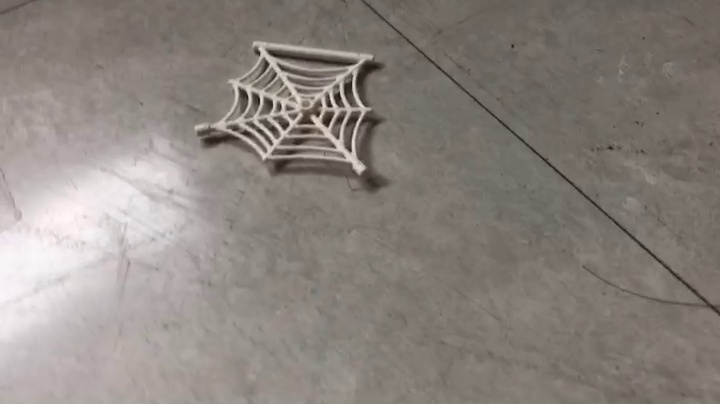web: (193, 40, 389, 192)
